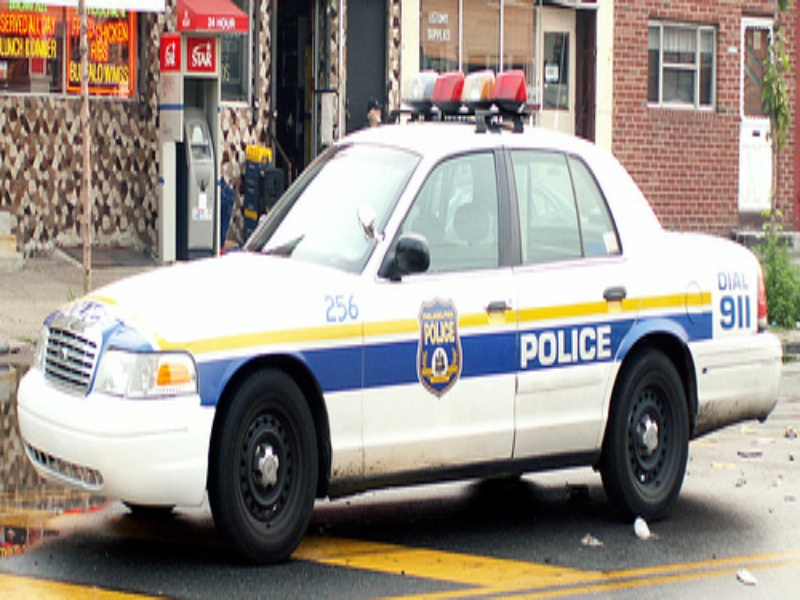car: (16, 70, 783, 568)
